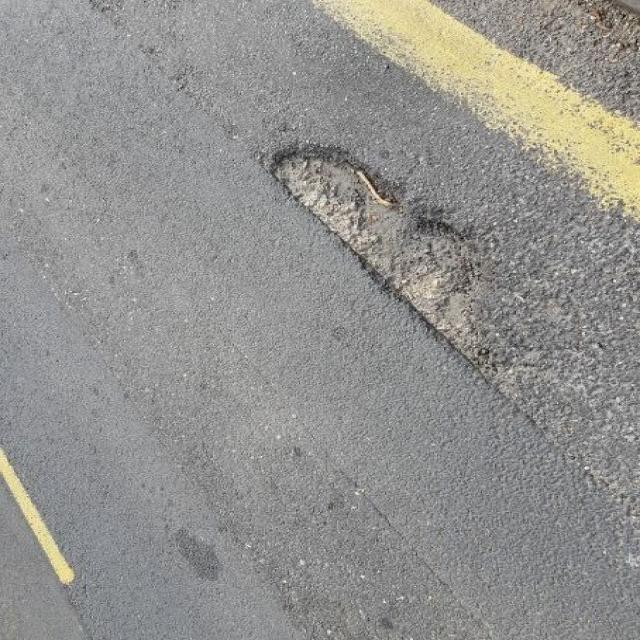Pothole: (264, 135, 502, 382)
